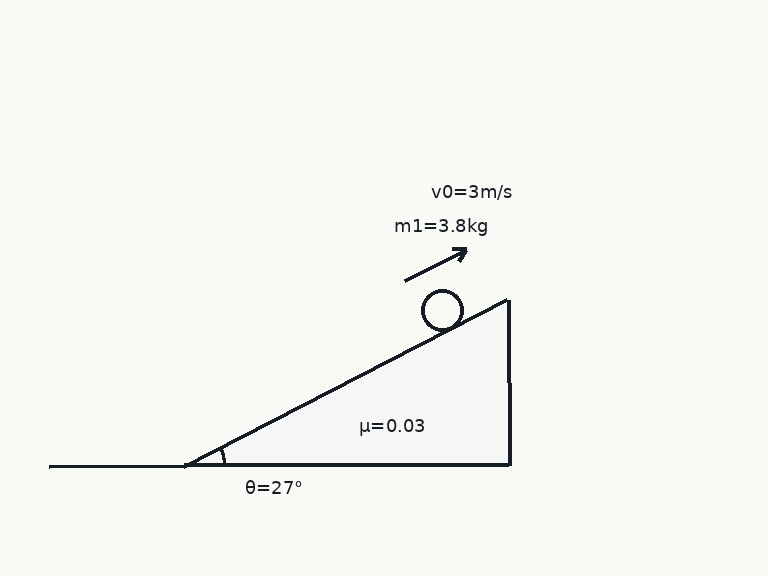ball: (419, 287, 465, 333)
ramp: (182, 298, 510, 467)
